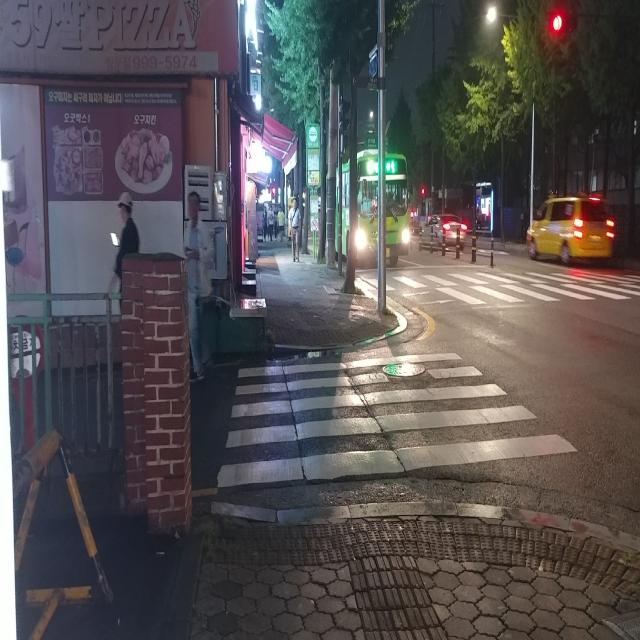횡단보도: (216, 348, 579, 491), (392, 276, 622, 298)
